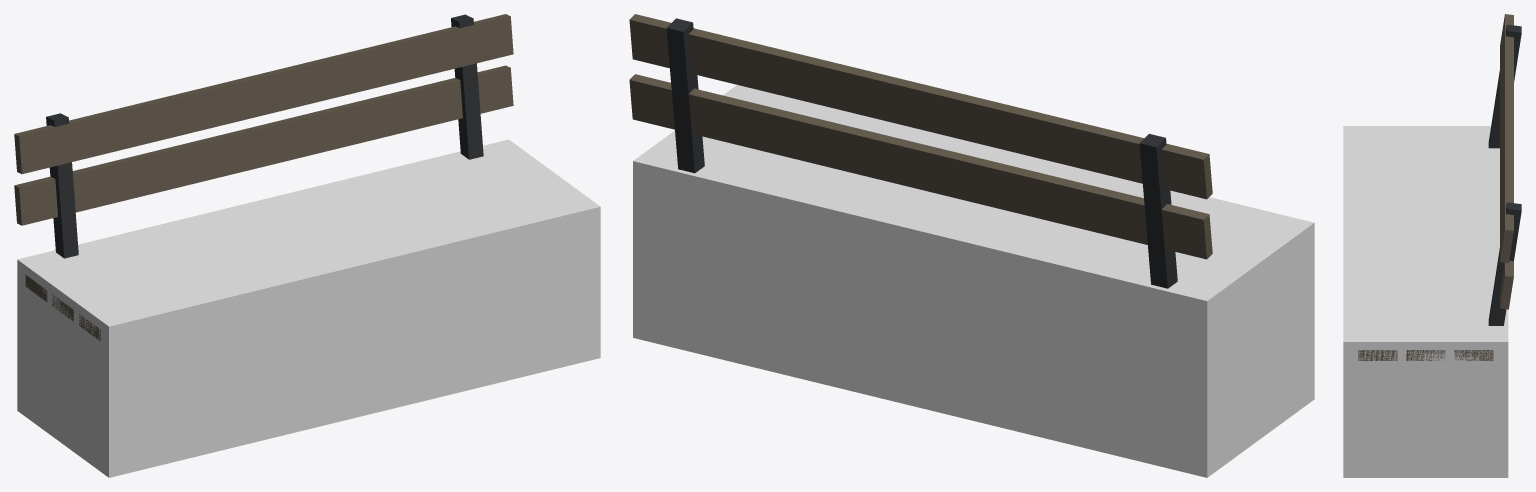
The model's file is Bench.fbx.
3 renders of one model, left to right at view 1: azimuth 30°, elevation 25°; view 2: azimuth 150°, elevation 25°; view 3: azimuth 270°, elevation 25°, orthographic. The views are drawn at different scales.
Visible parts, largest first — view 1: COL_Bench_0, Bench; view 2: COL_Bench_0, Bench; view 3: COL_Bench_0, Bench.
Boxes of the visible parts, box(x1,y1,x2,y2) form: COL_Bench_0: box(17, 139, 600, 477); Bench: box(14, 14, 513, 341); COL_Bench_0: box(633, 85, 1314, 477); Bench: box(629, 14, 1212, 288); COL_Bench_0: box(1343, 126, 1508, 477); Bench: box(1358, 14, 1521, 360).
Bounding box in the file's own units: 1.7 × 0.936 × 0.5946.
